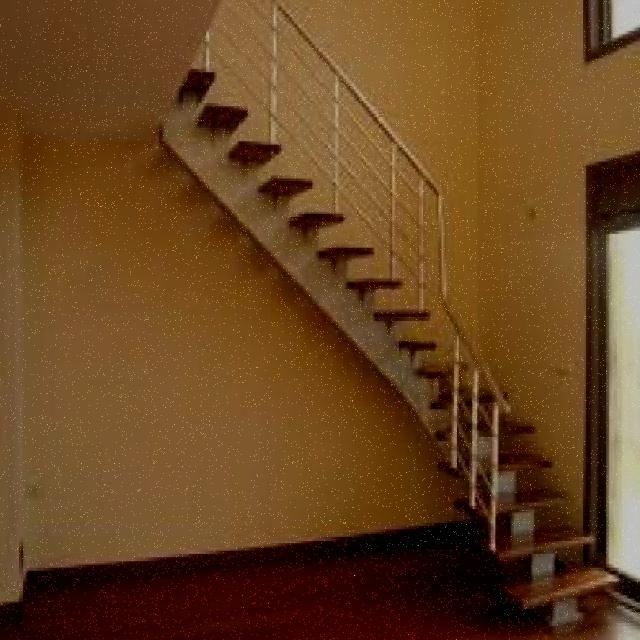stair: (128, 10, 630, 633)
